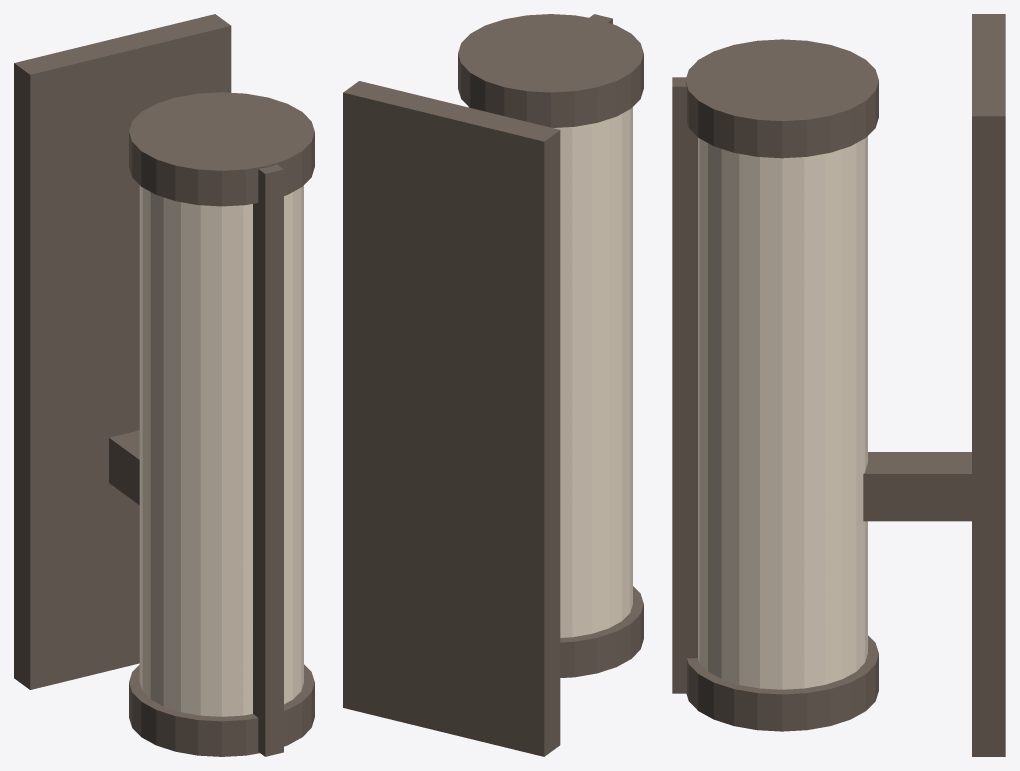
File: architectural-sconce.glb
3 renders of one model, left to right at view 1: azimuth 30°, elevation 25°; view 2: azimuth 150°, elevation 25°; view 3: azimuth 270°, elevation 25°, orthographic. The views are drawn at different scales.
Parts seen in each view (by area): view 1: ArchitecturalSconce; view 2: ArchitecturalSconce; view 3: ArchitecturalSconce.
Part boxes in pixels (x1,y1,x2,y2): ArchitecturalSconce: (14, 14, 314, 756); ArchitecturalSconce: (343, 14, 643, 756); ArchitecturalSconce: (672, 14, 1005, 756).
Bounding box in the file's own units: 0.13 × 0.38 × 0.179.
